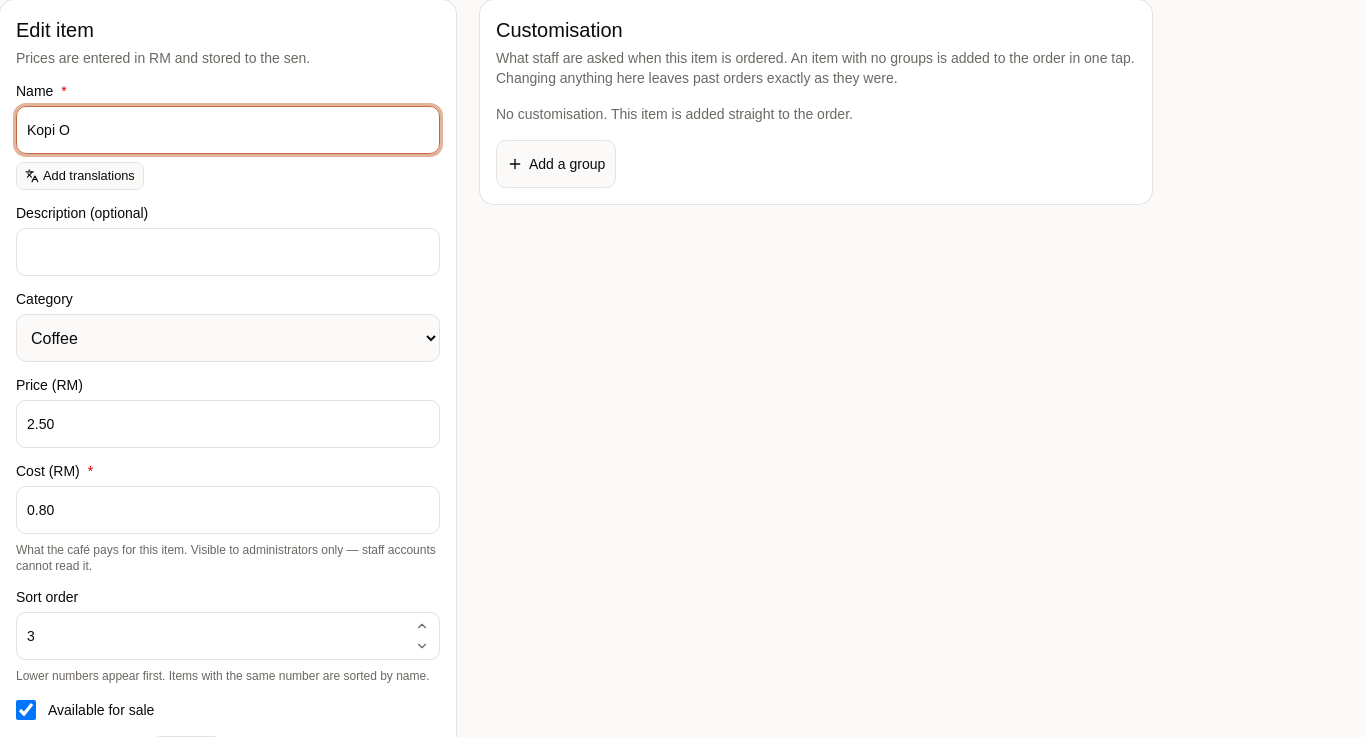
Test: the arrows › takes one away
The image size is (1366, 737).
Click the button with test id "sort-order-decrease". click: coordinates (422, 646)
box: [408,636,436,656]
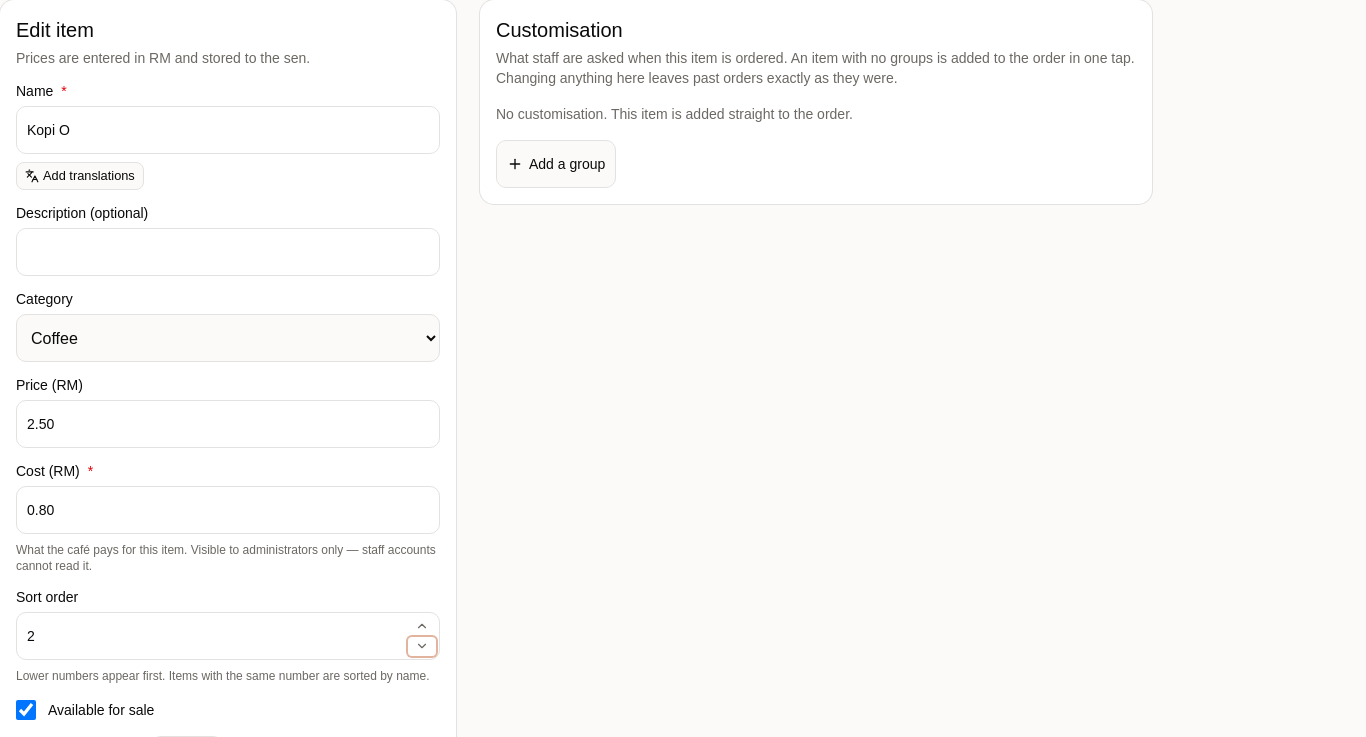
Result: the number field labelled "Sort order" holds "2" at [16,612,440,660]
